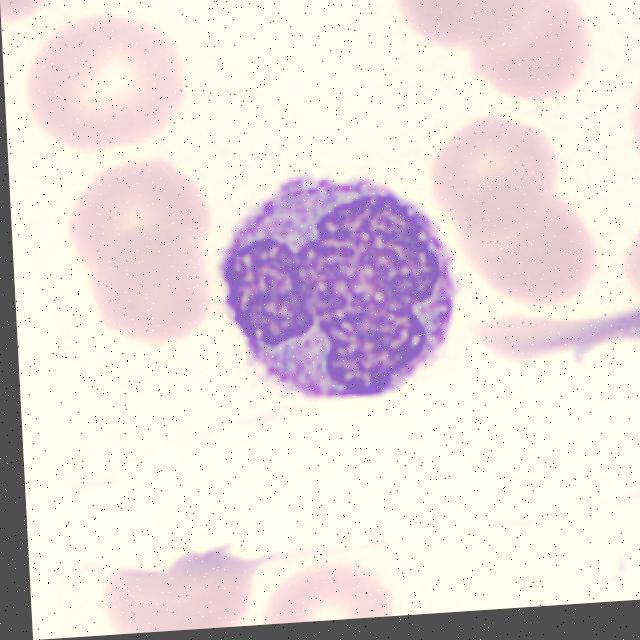monocyte: (217, 145, 493, 447)
rbc: (7, 8, 206, 165), (58, 144, 217, 284), (68, 218, 217, 363), (459, 184, 606, 322), (97, 523, 269, 635), (460, 0, 615, 109), (435, 119, 559, 239), (248, 544, 407, 625), (383, 0, 543, 65)
